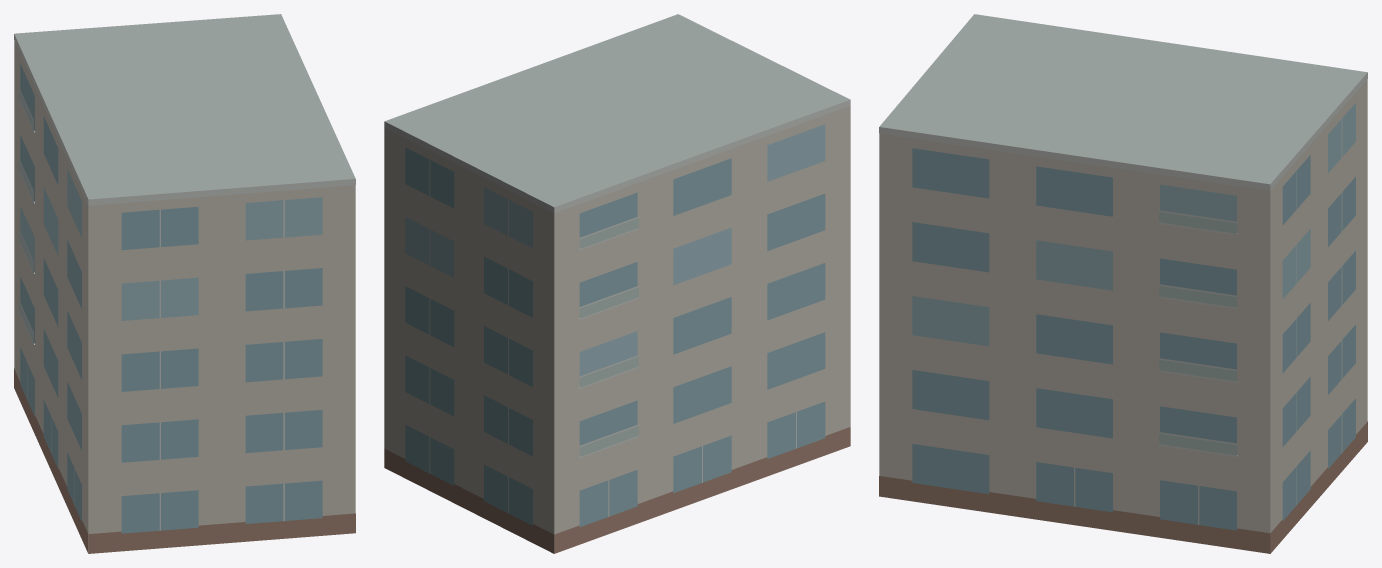
File: survey-upis-32959931.glb
3 views of the same model, side by side, from view 1: azimuth 30°, elevation 25°; view 2: azimuth 150°, elevation 25°; view 3: azimuth 270°, elevation 25° (orthographic). The views are drawn at different scales.
Parts seen in each view (by area): view 1: survey-upis-32959931.tmp; view 2: survey-upis-32959931.tmp; view 3: survey-upis-32959931.tmp.
Boxes of the visible parts, x1,y1,x2,y2 form: survey-upis-32959931.tmp: (14,14,355,553); survey-upis-32959931.tmp: (384,14,850,553); survey-upis-32959931.tmp: (879,14,1367,553).
Size of the model in its own units: 13.65 by 13.8 by 16.55.
